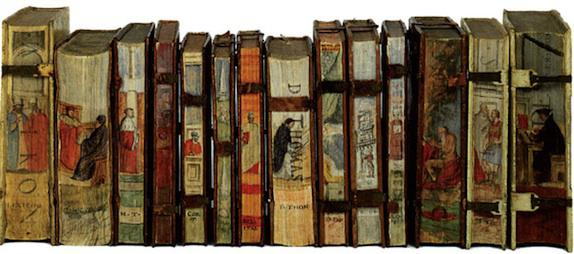book: (520, 34, 567, 248), (63, 57, 107, 243), (424, 41, 463, 245), (10, 27, 47, 238), (272, 63, 311, 243), (475, 37, 507, 245), (117, 46, 146, 242), (242, 57, 265, 242), (323, 41, 343, 243), (357, 46, 377, 242), (390, 41, 407, 246), (159, 45, 175, 243), (185, 57, 201, 240), (216, 59, 231, 242)
